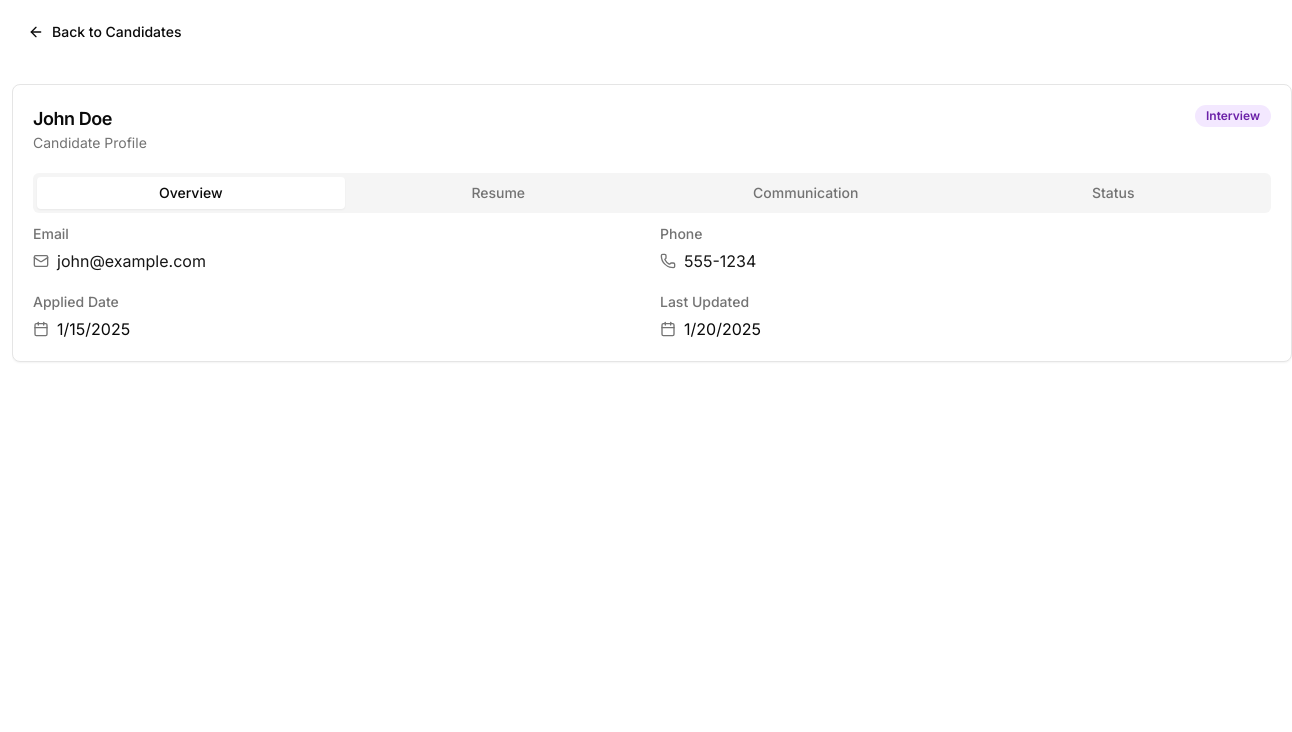
Test: CandidateDetail › displays all hiring stages in status tab
The width and height of the screenshot is (1292, 732).
Click the tab "Status" at (1113, 193), box [960,177,1267,209]
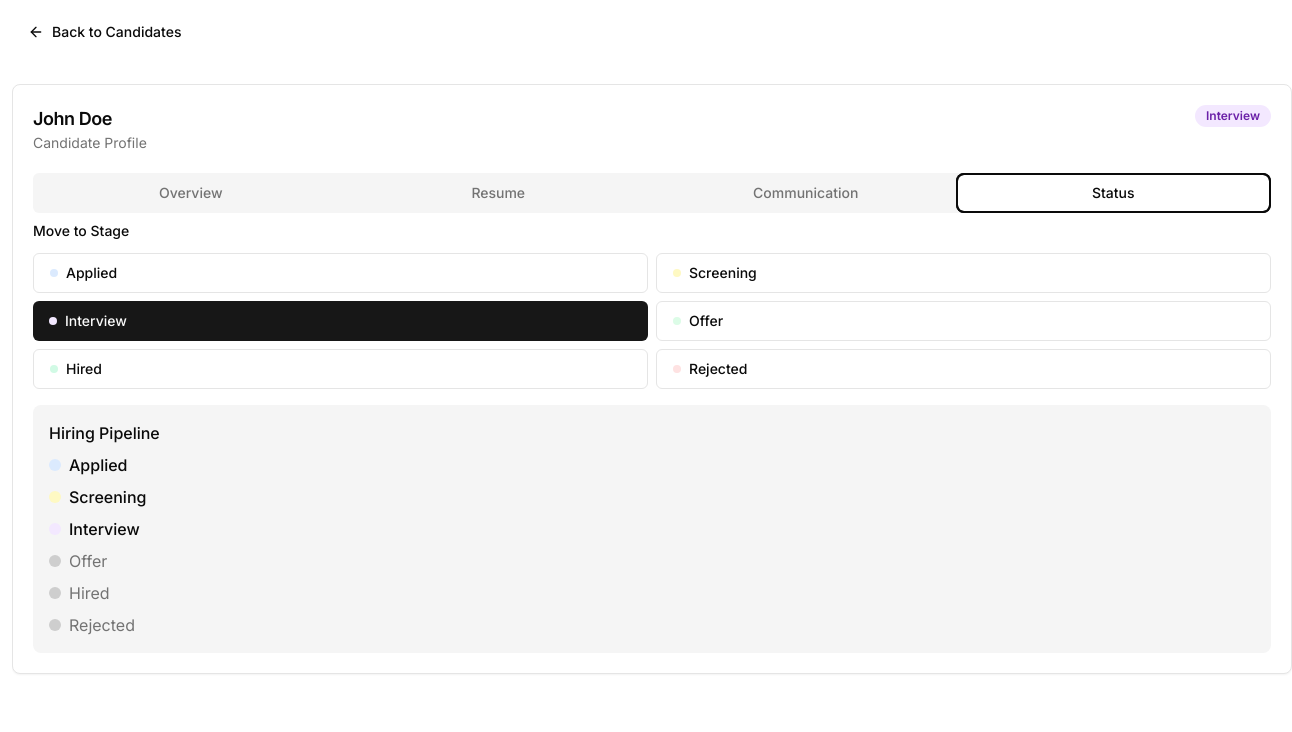
Expected: the button "Applied" is shown, [33,253,648,293]
Expected: the button "Screening" is shown, [656,253,1271,293]
Expected: the button "Offer" is shown, [656,301,1271,341]
